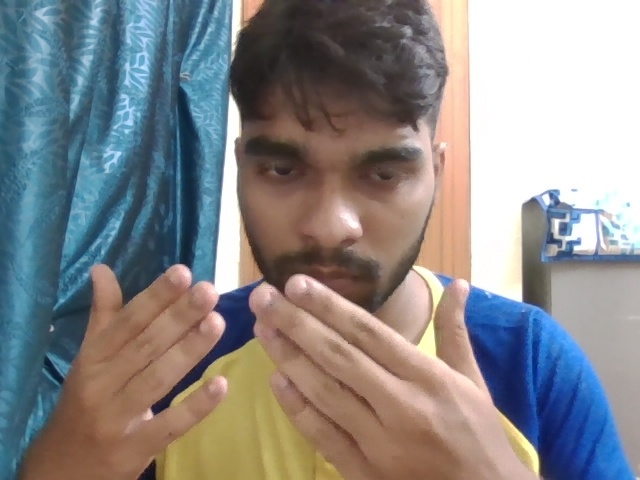Thank You: (68, 246, 522, 477)
